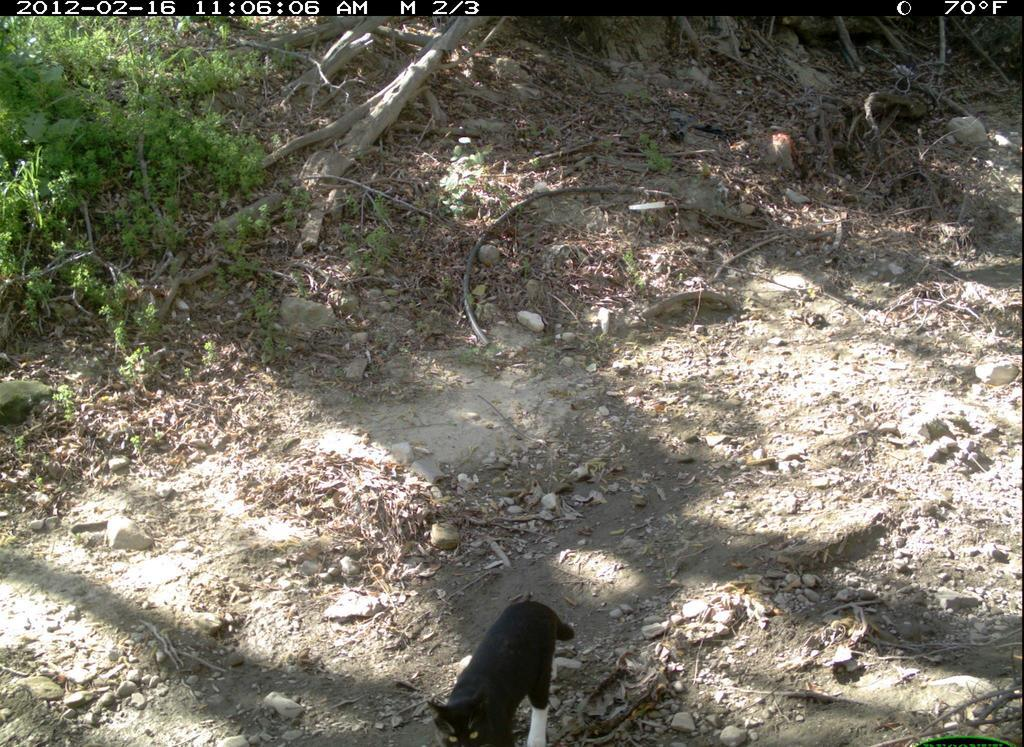cat: (408, 588, 597, 742)
